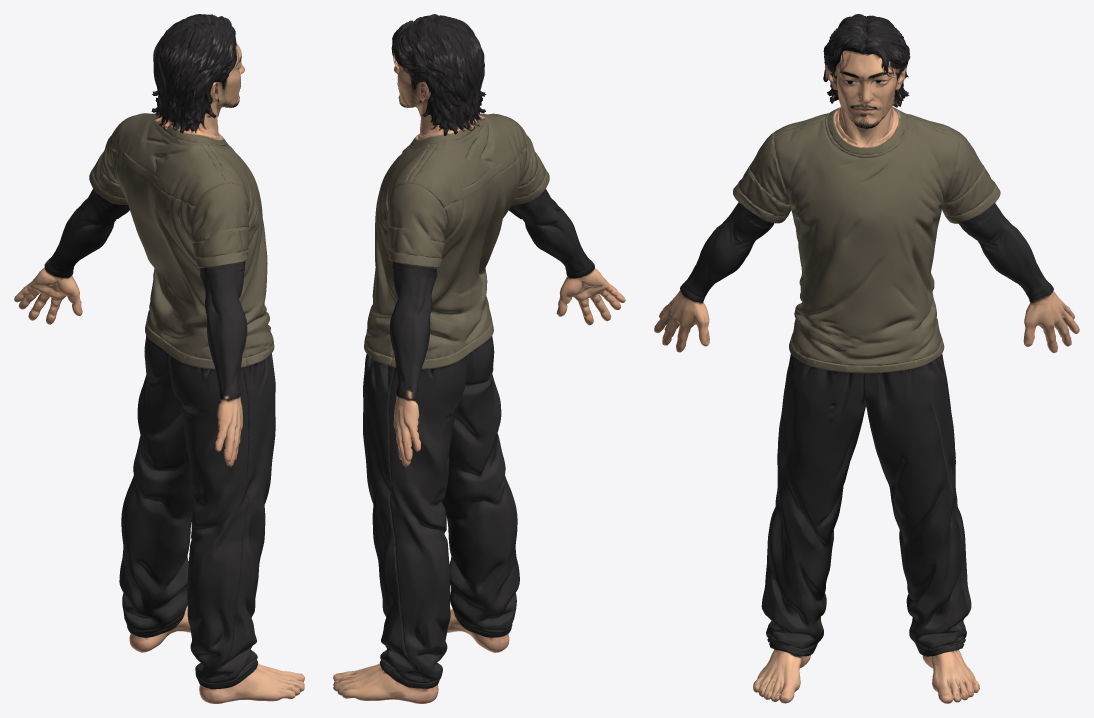
File: jinsoo_seo_tripo.glb
The picture shows the model from 3 angles, left to right: view 1: azimuth 30°, elevation 25°; view 2: azimuth 150°, elevation 25°; view 3: azimuth 270°, elevation 25°; orthographic projection.
Parts seen in each view (by area): view 1: tripo_node_af504636-d33e-4095-9136-27f12750da32; view 2: tripo_node_af504636-d33e-4095-9136-27f12750da32; view 3: tripo_node_af504636-d33e-4095-9136-27f12750da32.
Part boxes in pixels (bbox=[...]): tripo_node_af504636-d33e-4095-9136-27f12750da32: bbox=[14, 14, 304, 703]; tripo_node_af504636-d33e-4095-9136-27f12750da32: bbox=[333, 14, 625, 703]; tripo_node_af504636-d33e-4095-9136-27f12750da32: bbox=[654, 14, 1079, 703].
Bounding box in the file's own units: 0.2368 × 0.9804 × 0.575.
1 material, 1 textured.
